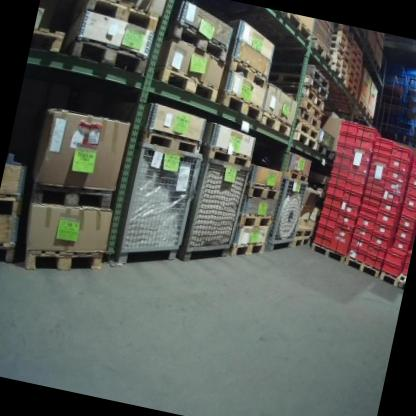pallet: (21, 235, 106, 287), (28, 171, 115, 221), (63, 35, 151, 77), (161, 17, 232, 64), (73, 0, 162, 36), (150, 62, 222, 104), (136, 125, 203, 159), (220, 54, 273, 92), (212, 89, 267, 124), (198, 140, 254, 169), (29, 22, 66, 57), (257, 108, 295, 139), (228, 233, 266, 264), (279, 12, 315, 44), (241, 177, 282, 203), (341, 254, 382, 279), (307, 241, 347, 265), (235, 207, 273, 232), (307, 36, 336, 67), (0, 190, 26, 221), (376, 269, 406, 290), (303, 77, 330, 100), (0, 242, 20, 269), (306, 67, 331, 88), (284, 166, 310, 185), (301, 89, 326, 108), (292, 132, 318, 150), (297, 111, 323, 129), (294, 121, 319, 139), (300, 100, 325, 118), (290, 232, 311, 250), (313, 143, 334, 161), (294, 222, 314, 237), (342, 83, 359, 100), (330, 68, 347, 85), (354, 97, 369, 114), (364, 43, 377, 61), (346, 72, 363, 84), (345, 77, 360, 90), (370, 57, 382, 73), (349, 58, 365, 70), (337, 41, 353, 53), (337, 31, 354, 42), (334, 62, 349, 74), (336, 48, 350, 60), (364, 108, 375, 123), (335, 55, 347, 66), (349, 66, 362, 75), (352, 53, 360, 59)
small_load_carrier: (329, 221, 354, 255), (355, 125, 383, 142), (385, 247, 406, 267), (390, 143, 412, 162), (370, 232, 394, 249), (367, 244, 392, 260), (392, 227, 414, 245), (382, 177, 406, 193), (334, 212, 355, 230), (338, 117, 360, 134), (380, 188, 403, 204), (375, 211, 398, 227), (316, 215, 337, 232), (337, 201, 358, 218), (342, 181, 363, 198), (340, 191, 363, 206), (386, 157, 409, 172), (377, 200, 400, 215), (372, 222, 395, 237), (384, 168, 408, 182), (349, 236, 371, 251), (353, 136, 372, 153), (350, 149, 370, 165), (319, 204, 340, 219), (337, 130, 357, 145), (353, 225, 373, 240), (381, 262, 402, 276), (346, 246, 364, 262), (365, 255, 383, 271), (347, 161, 366, 176), (321, 194, 341, 208), (311, 235, 331, 249), (391, 238, 411, 252), (398, 209, 416, 224), (335, 141, 354, 155), (333, 151, 352, 165), (344, 172, 364, 185), (373, 138, 393, 151), (330, 162, 346, 178), (325, 185, 343, 198), (365, 179, 383, 192), (361, 195, 380, 207), (400, 198, 416, 212), (395, 220, 415, 231), (315, 227, 333, 239), (371, 153, 390, 164), (328, 175, 344, 188), (356, 216, 373, 228), (367, 165, 387, 175), (367, 172, 385, 183), (372, 147, 391, 157), (362, 188, 381, 198), (360, 203, 379, 213), (369, 160, 388, 169), (405, 186, 416, 201), (359, 209, 373, 219), (409, 165, 416, 180), (404, 250, 410, 264), (407, 178, 416, 187), (402, 264, 407, 275)
stillage: (106, 133, 207, 282), (177, 148, 257, 274), (262, 169, 314, 258)
